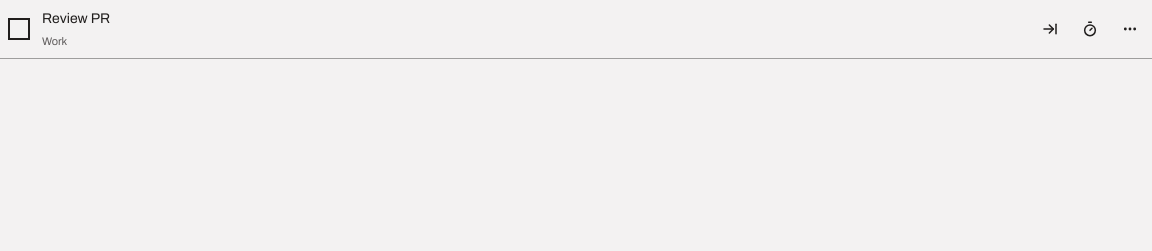
Test: TaskRow — today › edits through the row menu
Click the button with class "rmn-trigger" at (1130, 29), box [1116,15,1144,43]
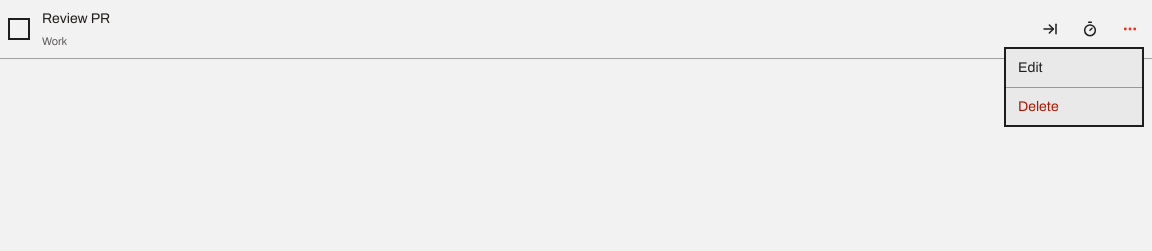
Click the menu item with class "rmn-edit" at (1074, 68), box [1006,49,1142,87]
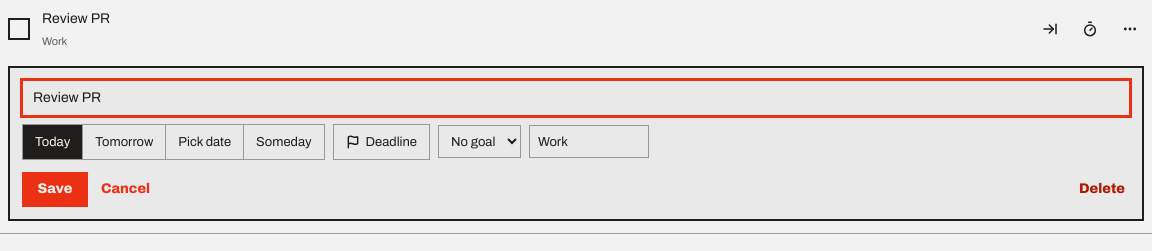
Replace the text in the field with class "ep-title" with "PR #482" at (576, 98), box [22,80,1130,116]
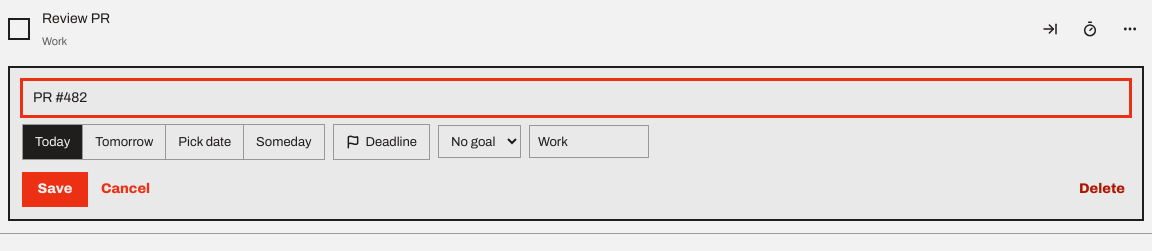
Click the button with class "ep-save" at (55, 189), box [22,172,88,207]
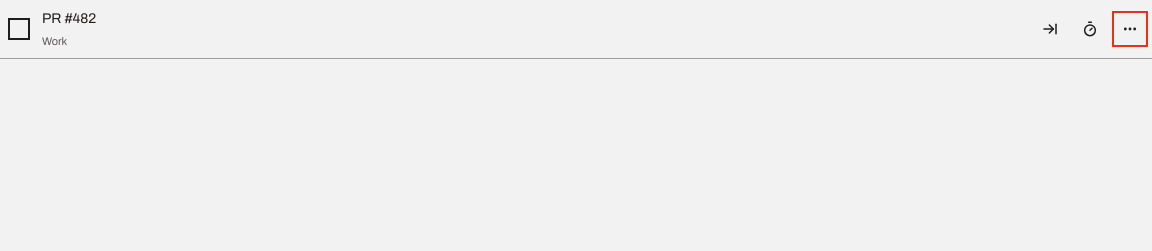
Expected: the text "PR #482" is shown, [42,11,96,26]
